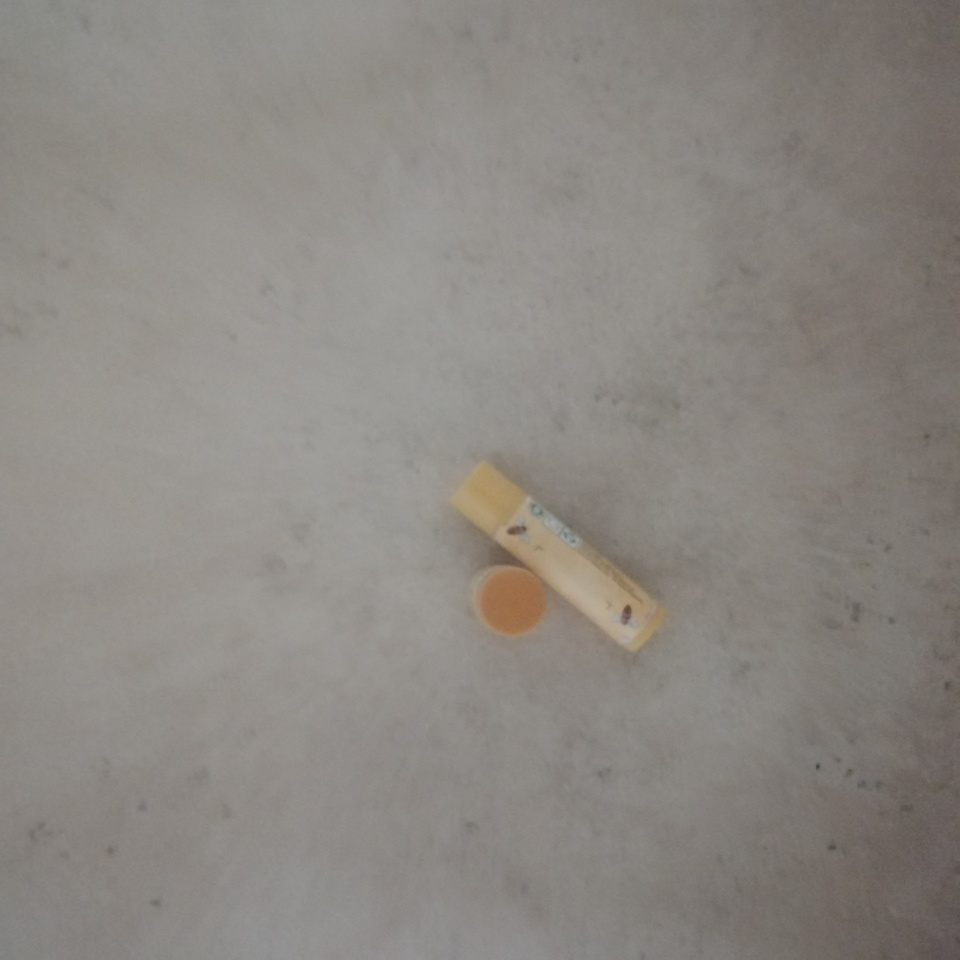chapstick: (449, 460, 668, 653), (472, 564, 546, 637)
